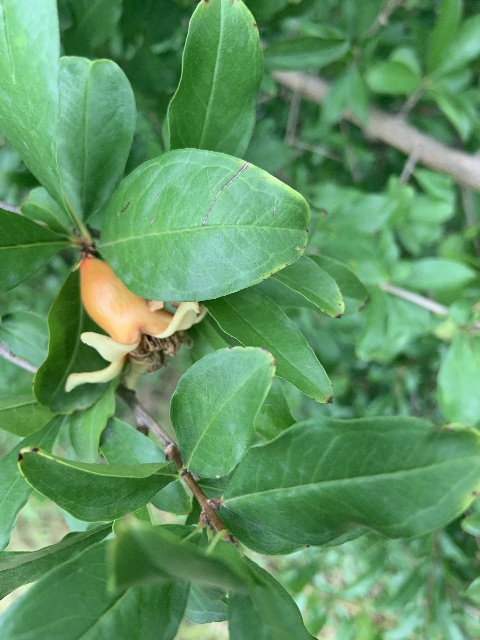early-fruit: (65, 257, 208, 392)
